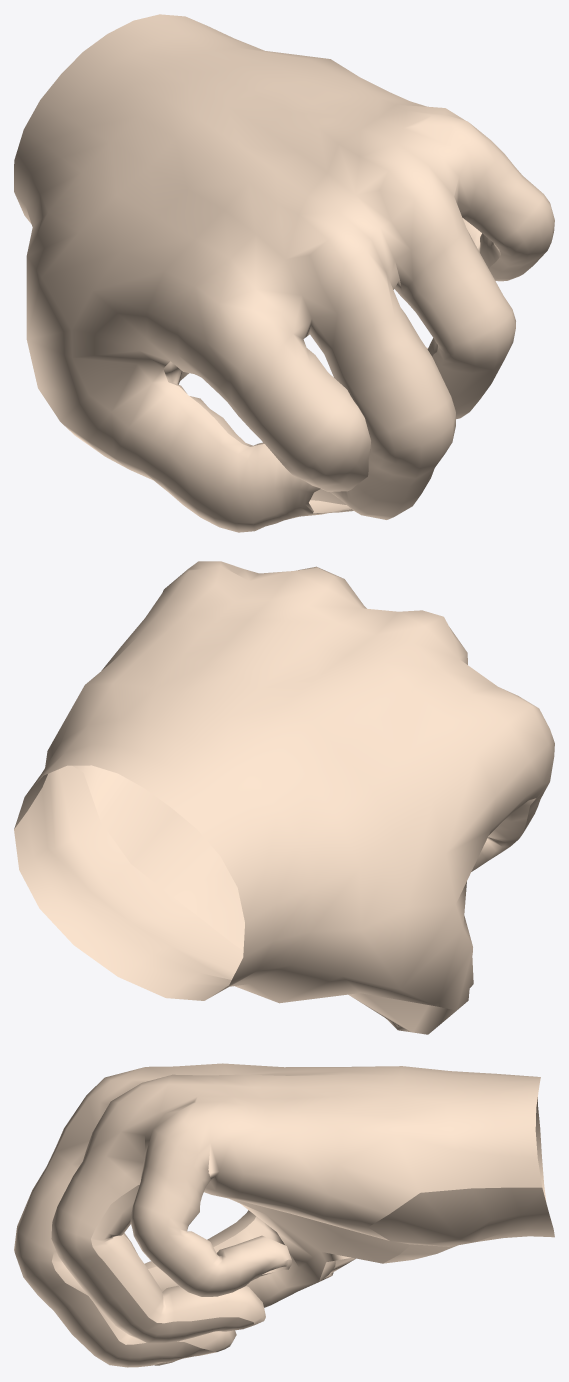
Rendered from mano_l_cerrada.glb.
3 views of the same model, one above another, from view 1: azimuth 30°, elevation 25°; view 2: azimuth 150°, elevation 25°; view 3: azimuth 270°, elevation 25° (orthographic). The views are drawn at different scales.
Parts seen in each view (by area): view 1: mano_l_cerrada; view 2: mano_l_cerrada; view 3: mano_l_cerrada.
Boxes of the visible parts, box(x1,y1,x2,y2) form: mano_l_cerrada: box(14, 14, 554, 532); mano_l_cerrada: box(14, 561, 554, 1034); mano_l_cerrada: box(14, 1063, 554, 1367).
Size of the model in its own units: 0.0971 by 0.0838 by 0.1301.
